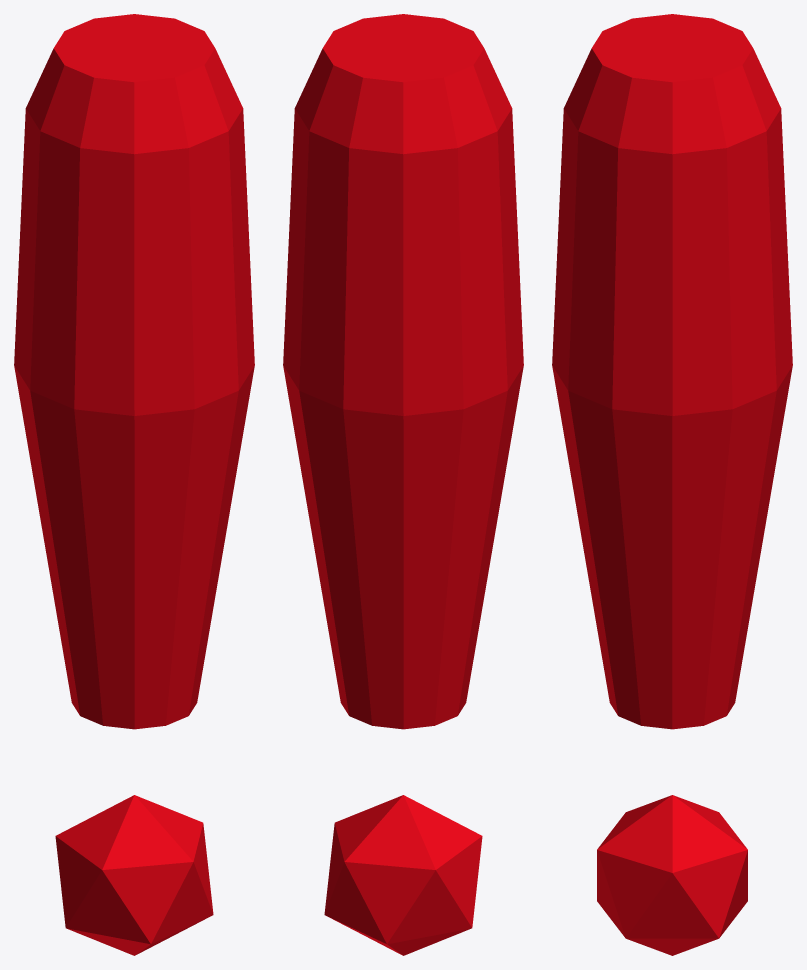
Rendered from Bang.fbx.
3 views of the same model, side by side, from view 1: azimuth 30°, elevation 25°; view 2: azimuth 150°, elevation 25°; view 3: azimuth 270°, elevation 25° (orthographic).
Visible parts, largest first — view 1: Cylinder, Icosphere; view 2: Cylinder, Icosphere; view 3: Cylinder, Icosphere.
Boxes of the visible parts, x1,y1,x2,y2 form: Cylinder: (14, 14, 254, 729); Icosphere: (55, 795, 213, 955); Cylinder: (283, 14, 523, 729); Icosphere: (324, 795, 482, 955); Cylinder: (552, 14, 792, 729); Icosphere: (597, 795, 747, 955).
Size of the model in its own units: 400 by 1664 by 400.
